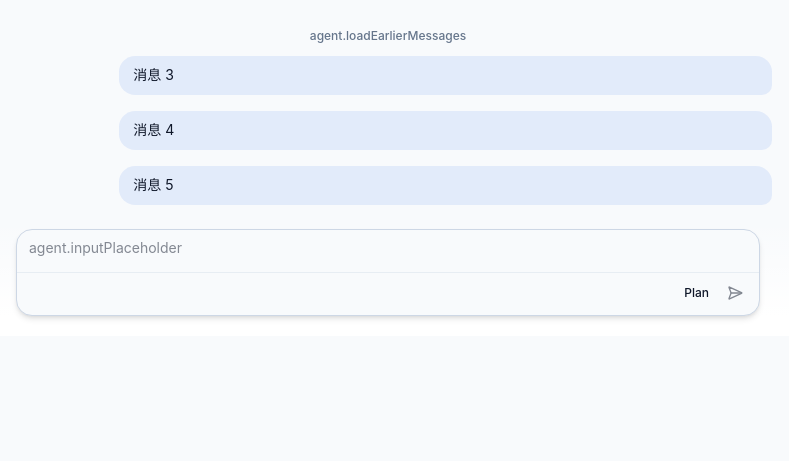
Test case: useChatHistory 分页合并 › 分页合并：首页 + 加载更早 = 顺序正确
This screenshot has width=789, height=461.
Expected: the text "消息 3" is shown, [133,66,174,83]
What coordinates should you click on to do the following:
click the button "agent.loadEarlierMessages"
I would click on:
 (388, 36)
Its box is [298,22,478,50].
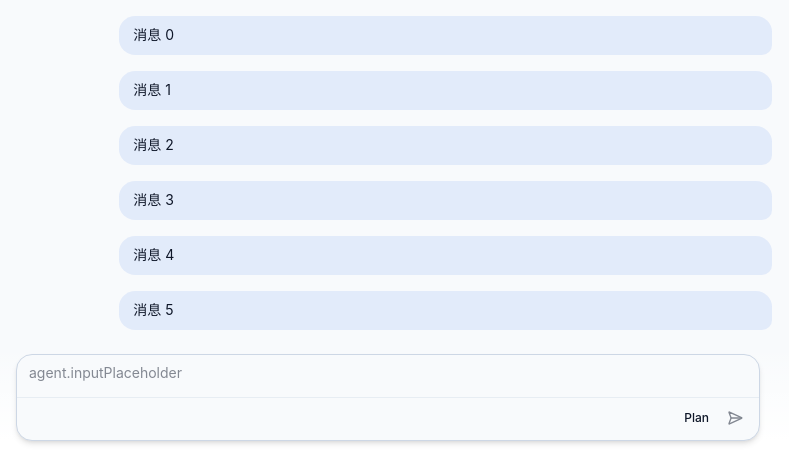
Now the text "消息 0" is shown, box [133,26,174,43]
